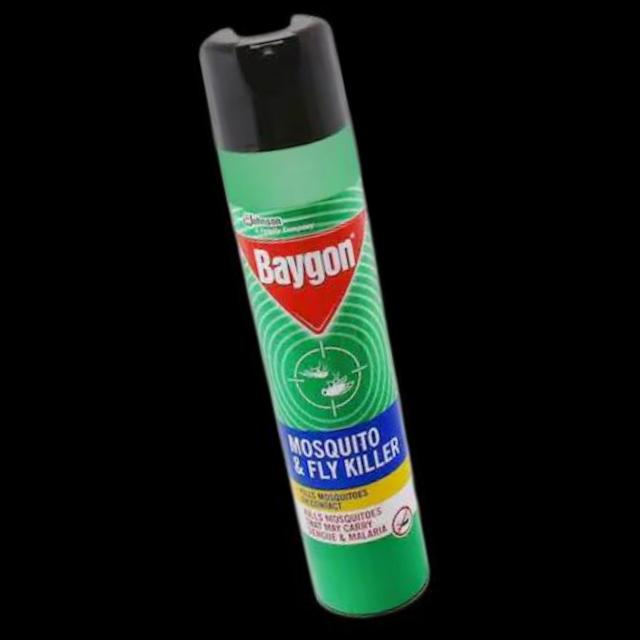Baygon Mosquito - Fly Killer Spray 625 ml: (189, 8, 450, 628)
